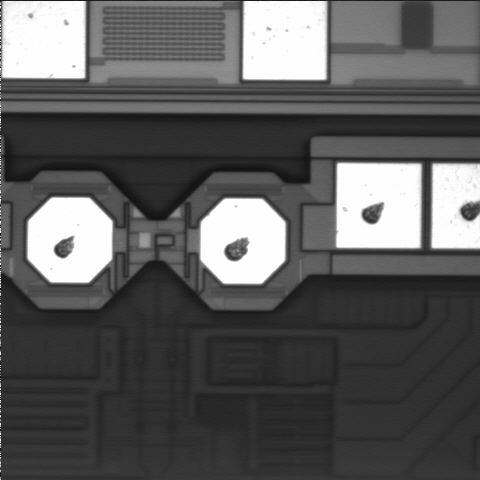pad: (336, 163, 421, 248), (200, 199, 285, 284), (28, 198, 112, 283)
